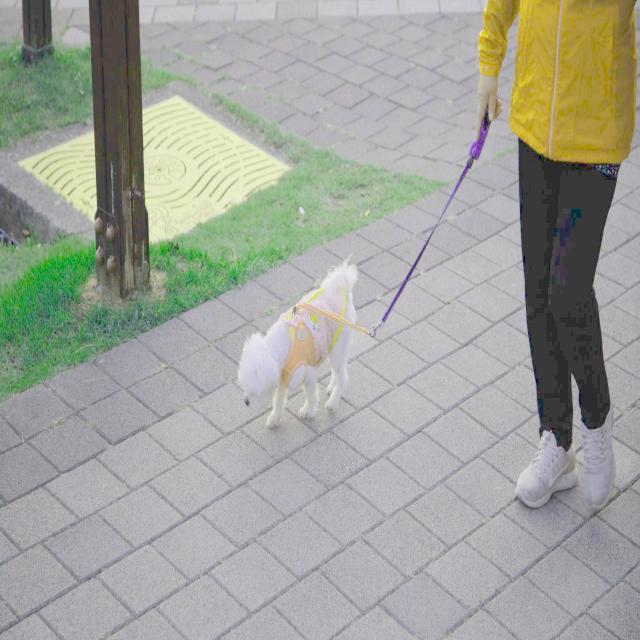Leashed_Dog: (238, 78, 542, 430)
